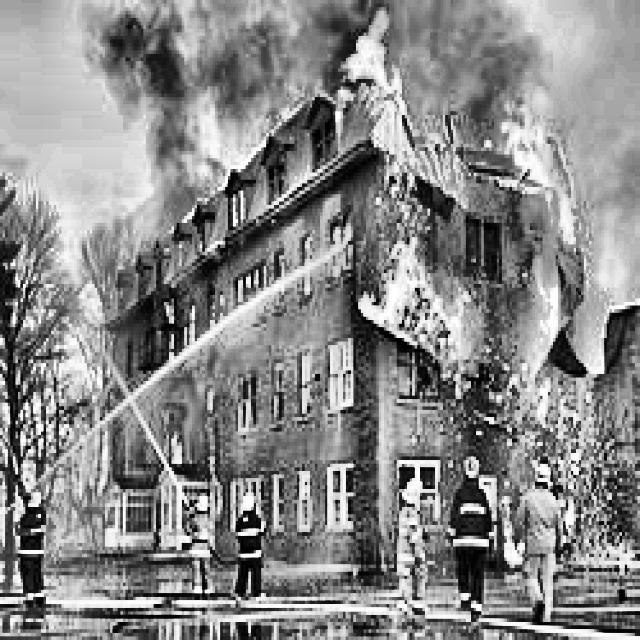fire: (351, 240, 599, 613), (486, 59, 592, 380), (315, 0, 433, 198)
